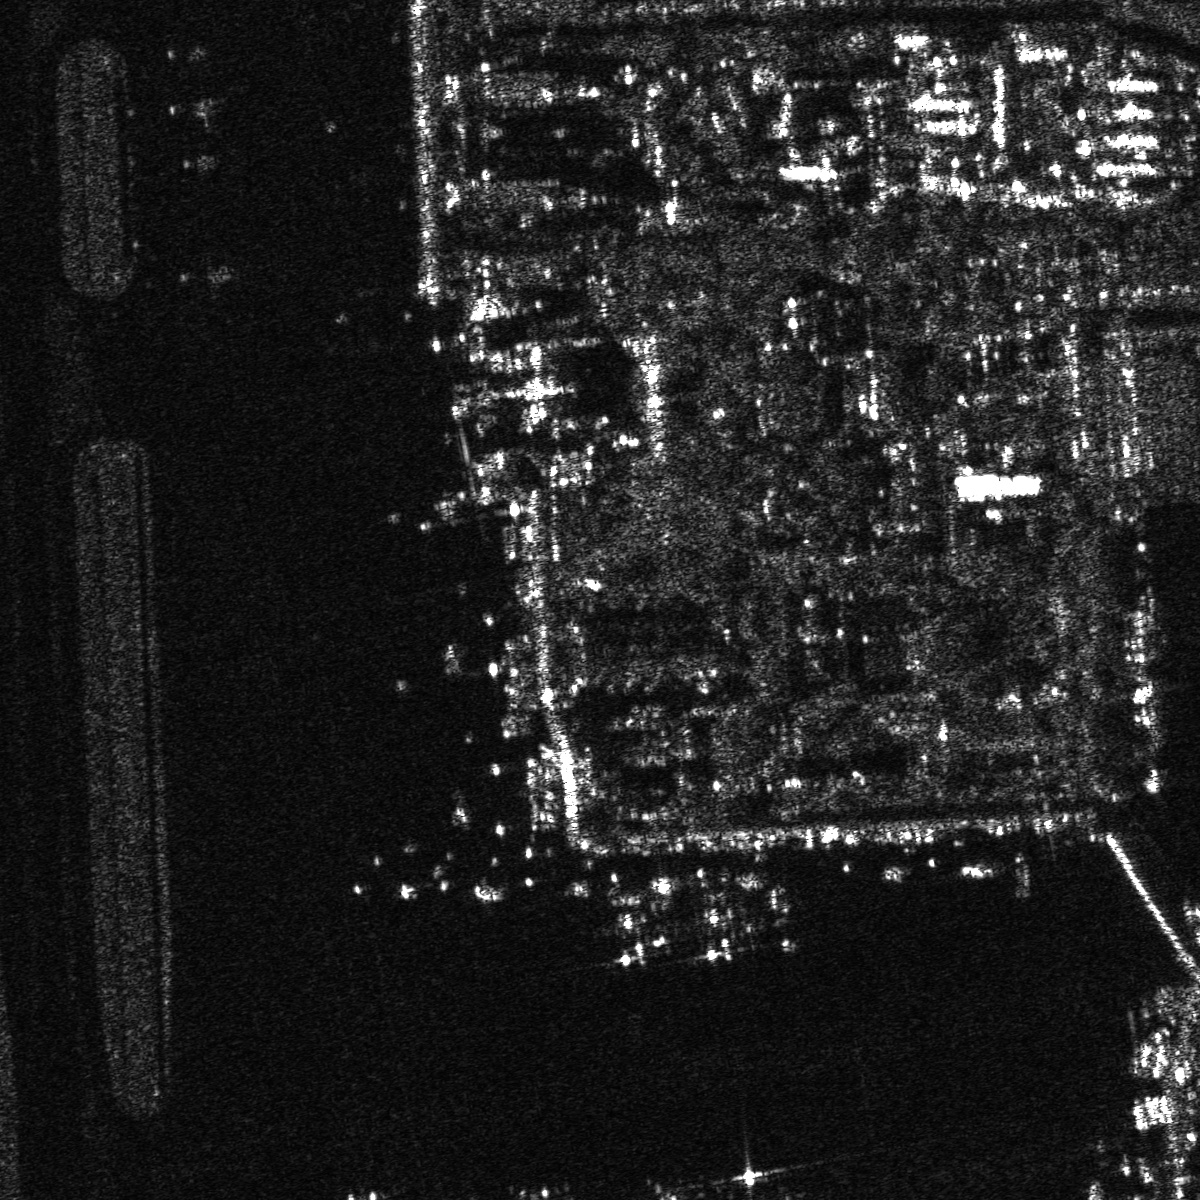ARJ21: (751, 877, 823, 954), (152, 86, 226, 132), (173, 146, 227, 178)
Boeing737: (588, 887, 677, 968)
other: (685, 888, 756, 967), (173, 253, 237, 304), (724, 1157, 796, 1199), (159, 35, 213, 71), (649, 1173, 709, 1199)
